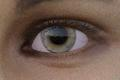eye: (42, 27, 76, 52)
